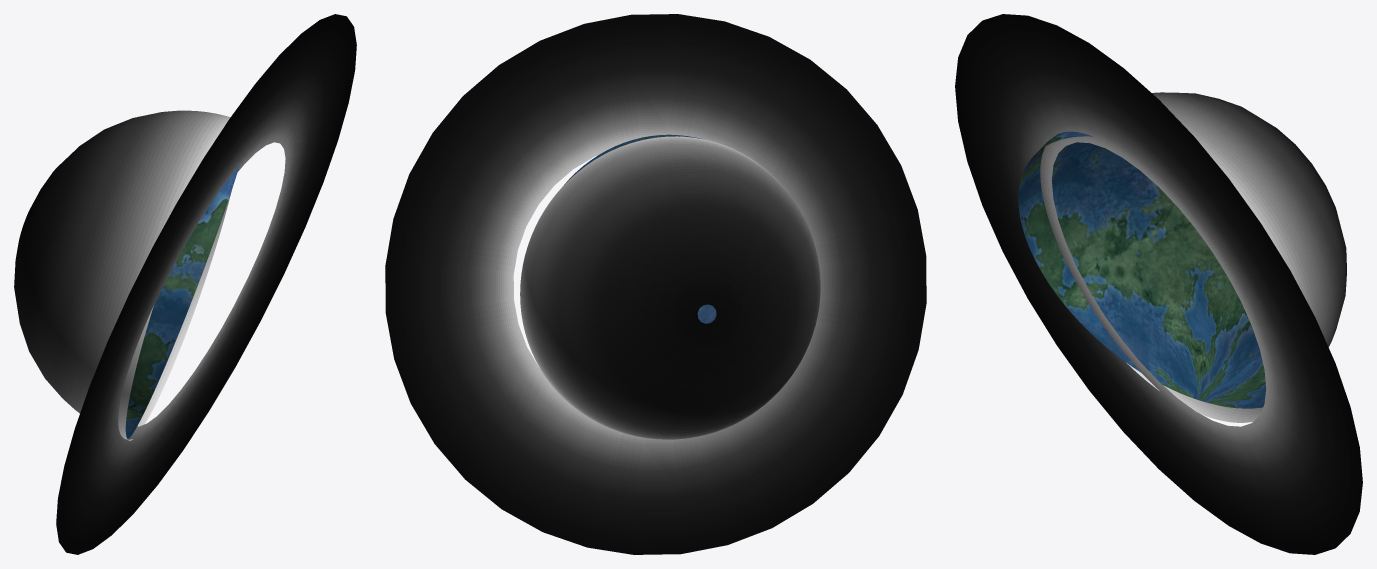
The model's file is env_space_zeffo_01_pre.glb.
3 renders of one model, left to right at view 1: azimuth 30°, elevation 25°; view 2: azimuth 150°, elevation 25°; view 3: azimuth 270°, elevation 25°, orthographic. The views are drawn at different scales.
Visible parts, largest first — view 1: planet_glow_mesh, planet_fresnel_mesh, planet_body_mesh; view 2: planet_glow_mesh, planet_fresnel_mesh, planet_body_mesh; view 3: planet_glow_mesh, planet_body_mesh, planet_fresnel_mesh.
Part boxes in pixels (x1,y1,x2,y2): planet_glow_mesh: (56,14,356,554); planet_fresnel_mesh: (14,110,231,440); planet_body_mesh: (125,166,239,438); planet_glow_mesh: (385,14,926,554); planet_fresnel_mesh: (520,136,820,439); planet_body_mesh: (564,134,716,323); planet_glow_mesh: (955,14,1362,554); planet_body_mesh: (1018,131,1266,408); planet_fresnel_mesh: (1127,92,1346,422).
Size of the model in its own units: 742 by 850 by 576.
3 materials, 3 textured.
